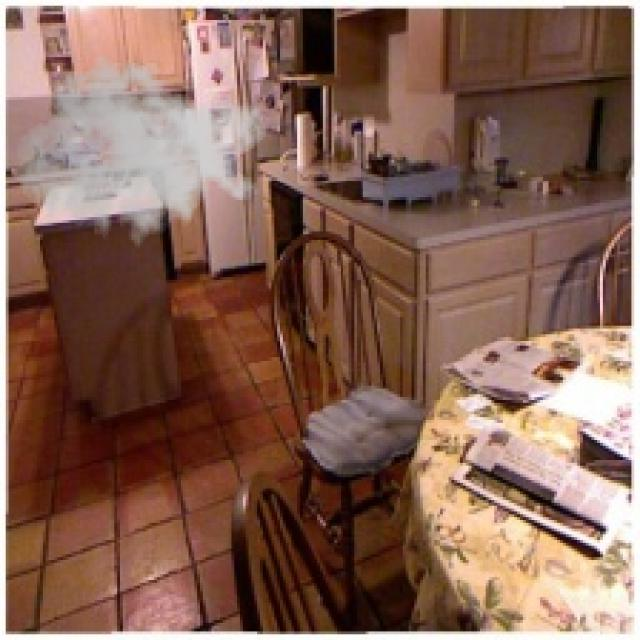smoke: (14, 49, 269, 257)
